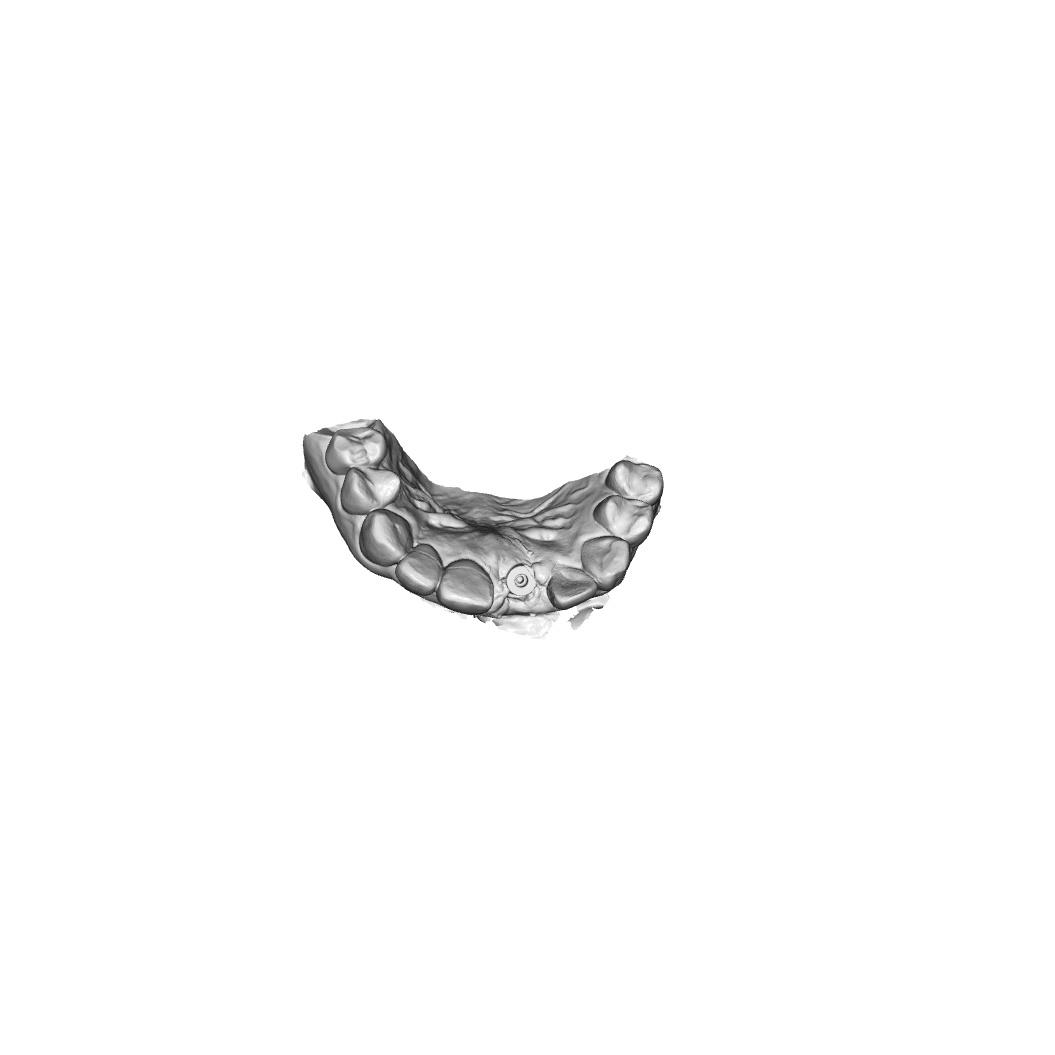canine: (359, 508, 414, 568), (580, 535, 632, 592)
implant: (504, 563, 538, 596)
incisor: (435, 557, 495, 616), (394, 543, 443, 597), (546, 564, 598, 611)
premolar: (592, 494, 655, 550), (324, 426, 390, 476), (340, 465, 402, 516), (603, 459, 664, 507)
